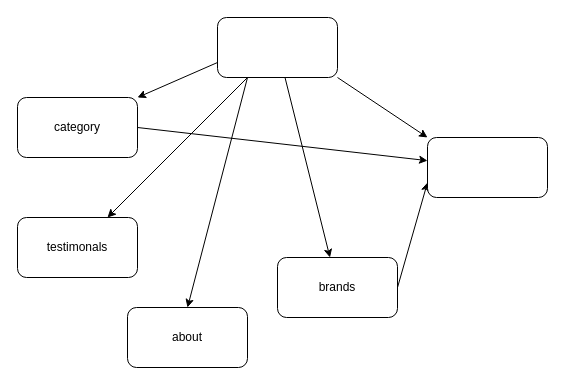
Image size: 565x385. Some labels were removed from this diagram. The centre of each missing label's shape, as x and y in pixels:
"basemodel" belongs at point 277,47.
"carvilla" belongs at point 487,167.
